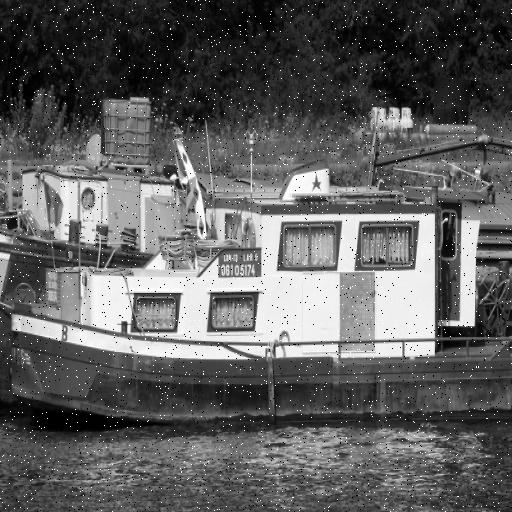tugboat: (6, 128, 512, 433)
